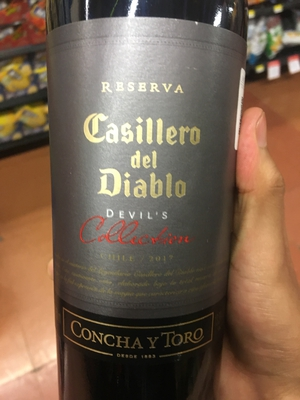casillero del diablo devils collection rojo: (42, 2, 241, 400)
